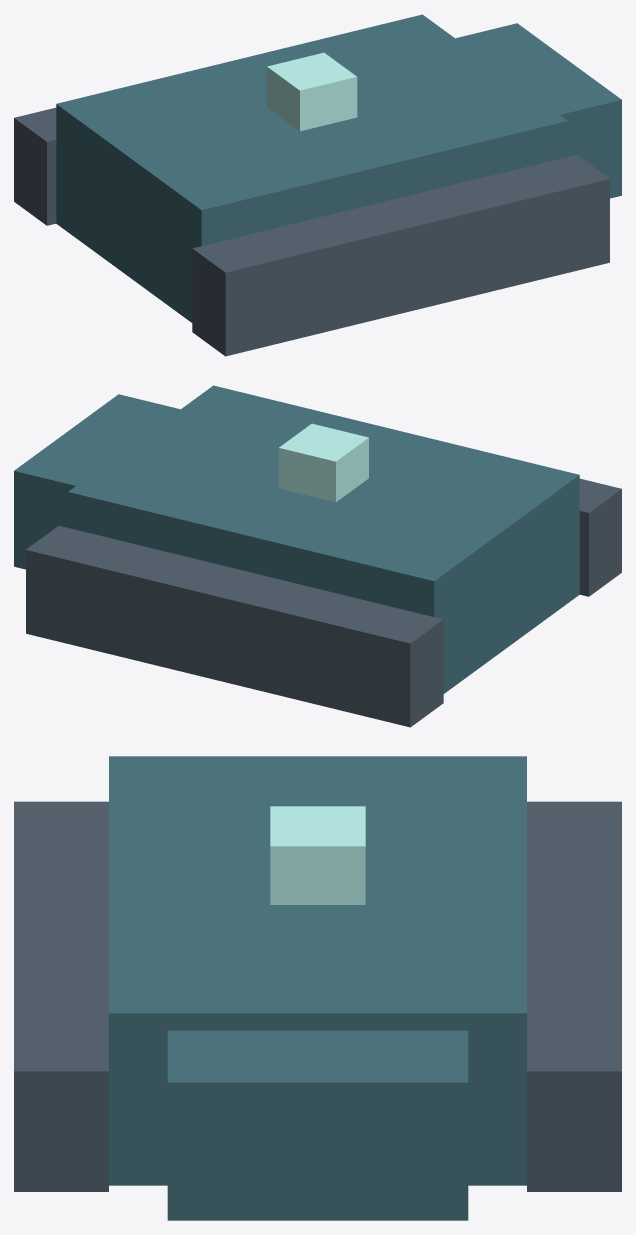
Rendered from chassis_placeholder.glb.
3 renders of one model, top to bottom at view 1: azimuth 30°, elevation 25°; view 2: azimuth 150°, elevation 25°; view 3: azimuth 270°, elevation 25°, orthographic. The views are drawn at different scales.
Parts seen in each view (by area): view 1: hull, tread_l, prow, core, tread_r; view 2: hull, tread_r, prow, core, tread_l; view 3: hull, prow, tread_l, tread_r, core.
Boxes of the visible parts, left/top/right/bottom form: hull: left=56, top=14, right=567, bottom=322; tread_l: left=192, top=154, right=609, bottom=356; prow: left=455, top=23, right=621, bottom=198; core: left=267, top=52, right=357, bottom=131; tread_r: left=14, top=107, right=56, bottom=225; hull: left=68, top=385, right=579, bottom=693; tread_r: left=26, top=525, right=443, bottom=727; prow: left=14, top=394, right=180, bottom=569; core: left=278, top=423, right=368, bottom=502; tread_l: left=579, top=478, right=621, bottom=596; hull: left=109, top=756, right=526, bottom=1185; prow: left=167, top=1030, right=468, bottom=1220; tread_l: left=14, top=801, right=108, bottom=1191; tread_r: left=527, top=801, right=621, bottom=1191; core: left=270, top=806, right=365, bottom=904.
Bounding box in the file's own units: 3.93 × 1.34 × 3.2.
